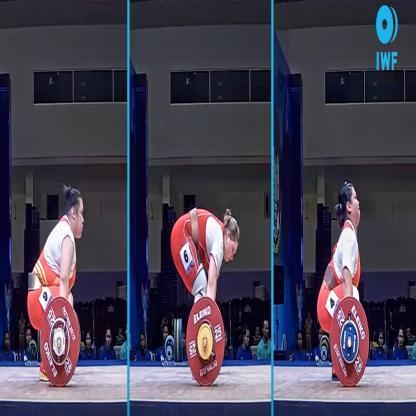barbell: (37, 295, 82, 388), (185, 295, 227, 388), (329, 296, 371, 387)
